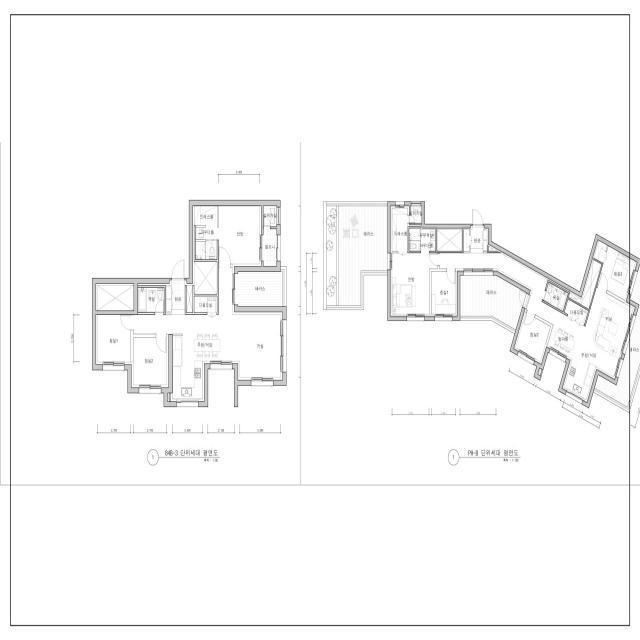space_balconi: (235, 272, 283, 307), (262, 229, 277, 266)
space_bedroom: (391, 253, 438, 316), (593, 240, 637, 301), (218, 206, 261, 266), (514, 312, 551, 364), (132, 338, 168, 388), (96, 315, 131, 365), (431, 272, 457, 316)
space_dressroom: (391, 206, 409, 252), (193, 206, 217, 240)
space_front: (166, 280, 187, 315), (463, 226, 488, 253)
space_kitchen: (547, 325, 618, 403), (171, 336, 234, 402)
space_living_room: (440, 253, 635, 362), (133, 268, 282, 380)
space_multipurpose_space: (564, 299, 588, 324), (194, 296, 217, 312)
space_other: (569, 259, 602, 309), (96, 284, 134, 311), (193, 262, 217, 294), (437, 228, 462, 251), (186, 284, 193, 312), (489, 245, 500, 251), (168, 393, 169, 402)
space_outdoor_room: (263, 206, 277, 227), (410, 206, 422, 223)
space_toilet: (543, 282, 568, 312), (138, 287, 164, 312), (409, 228, 436, 251), (196, 240, 217, 260)
